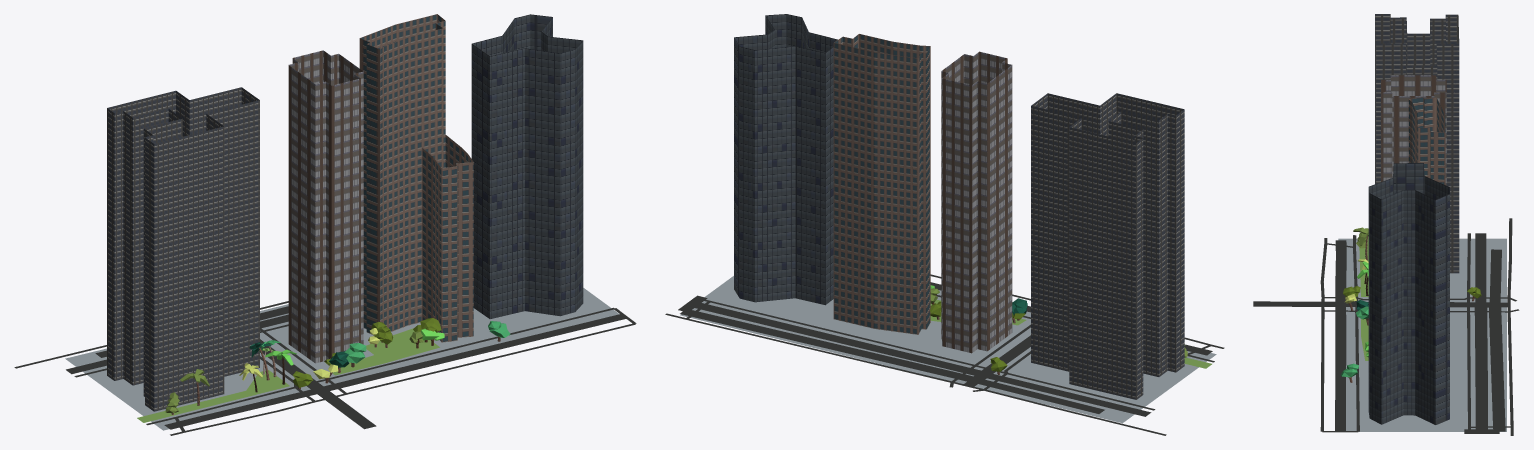
The model's file is BC_Env5.fbx.
3 renders of one model, left to right at view 1: azimuth 30°, elevation 25°; view 2: azimuth 150°, elevation 25°; view 3: azimuth 270°, elevation 25°, orthographic. The views are drawn at different scales.
Visible parts, largest first — view 1: BC_Env5; view 2: BC_Env5; view 3: BC_Env5.
Part boxes in pixels (x1,y1,x2,y2): BC_Env5: [14, 14, 636, 435]; BC_Env5: [665, 14, 1224, 435]; BC_Env5: [1253, 14, 1519, 435].
Bounding box in the file's own units: 9022 × 4833 × 4663.
